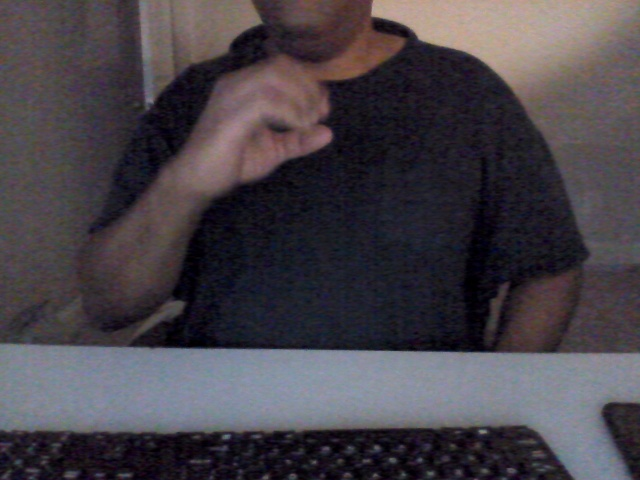drink: (171, 56, 349, 202)
